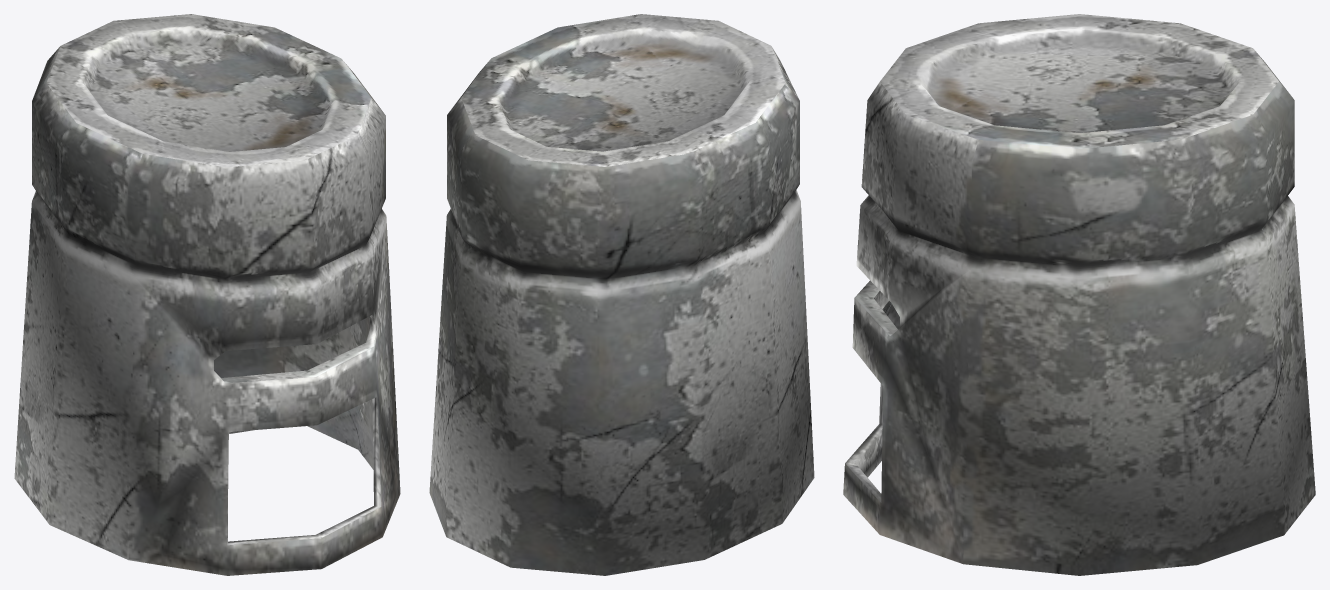
File: oga-lucianpavel-bucket-helmet.fbx
3 renders of one model, left to right at view 1: azimuth 30°, elevation 25°; view 2: azimuth 150°, elevation 25°; view 3: azimuth 270°, elevation 25°, orthographic. The views are drawn at different scales.
Visible parts, largest first — view 1: Bucket Helmet; view 2: Bucket Helmet; view 3: Bucket Helmet.
Part boxes in pixels (x1=…): Bucket Helmet: x1=14, y1=14, x2=400, y2=575; Bucket Helmet: x1=429, y1=14, x2=814, y2=575; Bucket Helmet: x1=843, y1=14, x2=1315, y2=575.
Size of the model in its own units: 20.3 by 24.1 by 24.96.
